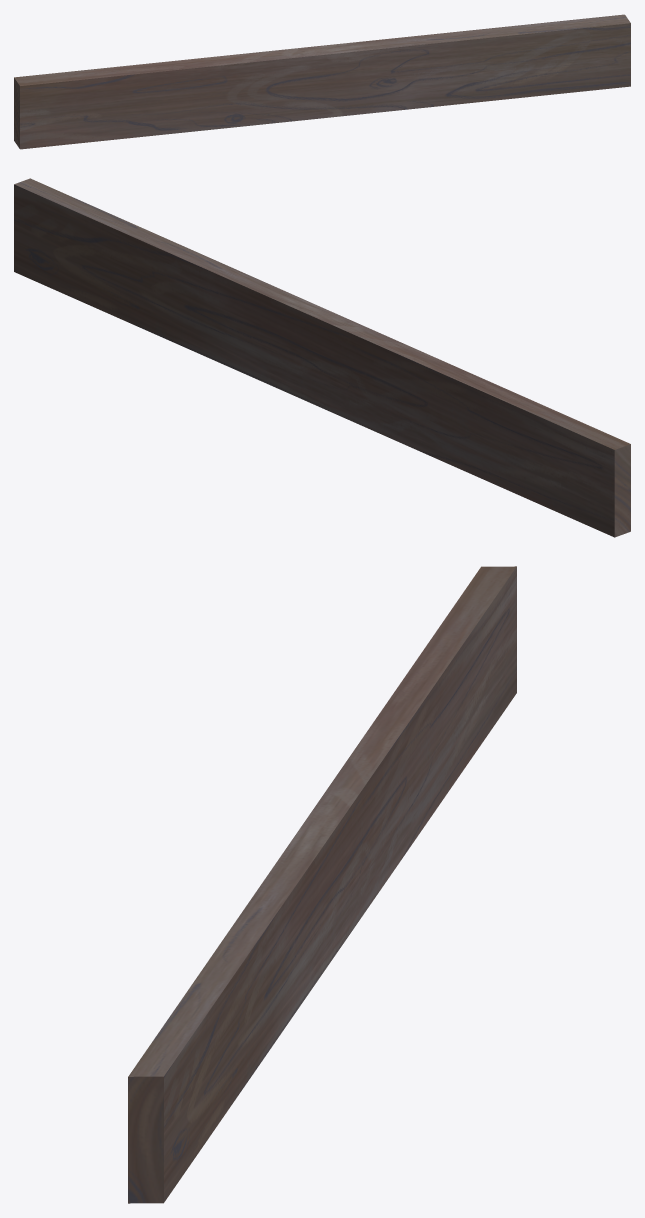
The model's file is long_board_016.fbx.
3 renders of one model, top to bottom at view 1: azimuth 30°, elevation 25°; view 2: azimuth 150°, elevation 25°; view 3: azimuth 270°, elevation 25°, orthographic. The views are drawn at different scales.
Parts seen in each view (by area): view 1: long board.016; view 2: long board.016; view 3: long board.016.
Part boxes in pixels (x1,y1,x2,y2): long board.016: (14, 14, 630, 149); long board.016: (14, 178, 630, 537); long board.016: (128, 566, 516, 1203).
Size of the model in its own units: 88.24 by 10.41 by 28.27.
